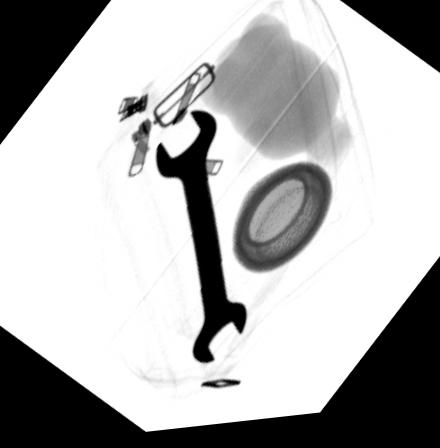Wrench: (153, 111, 250, 370)
